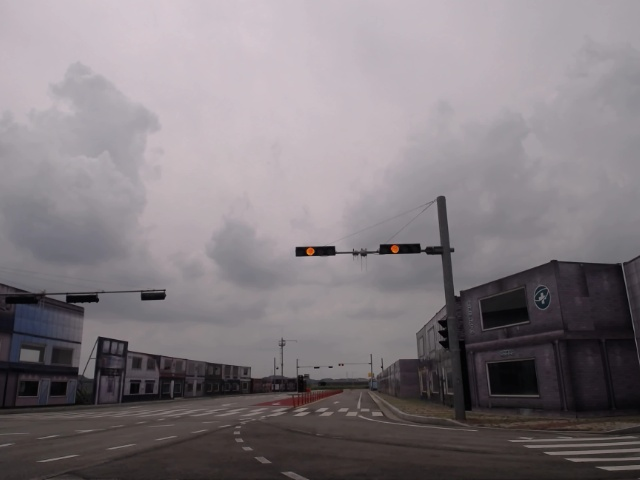orange_4: (381, 241, 422, 256), (294, 246, 337, 257)
